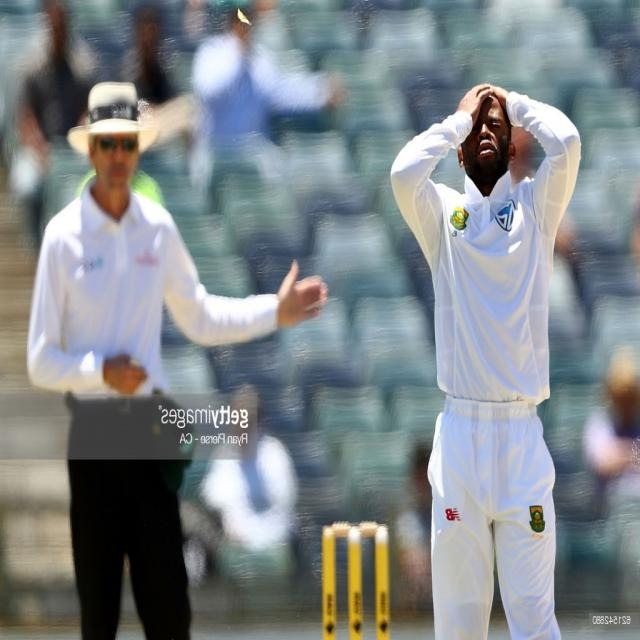No_Ball: (22, 69, 334, 640)
